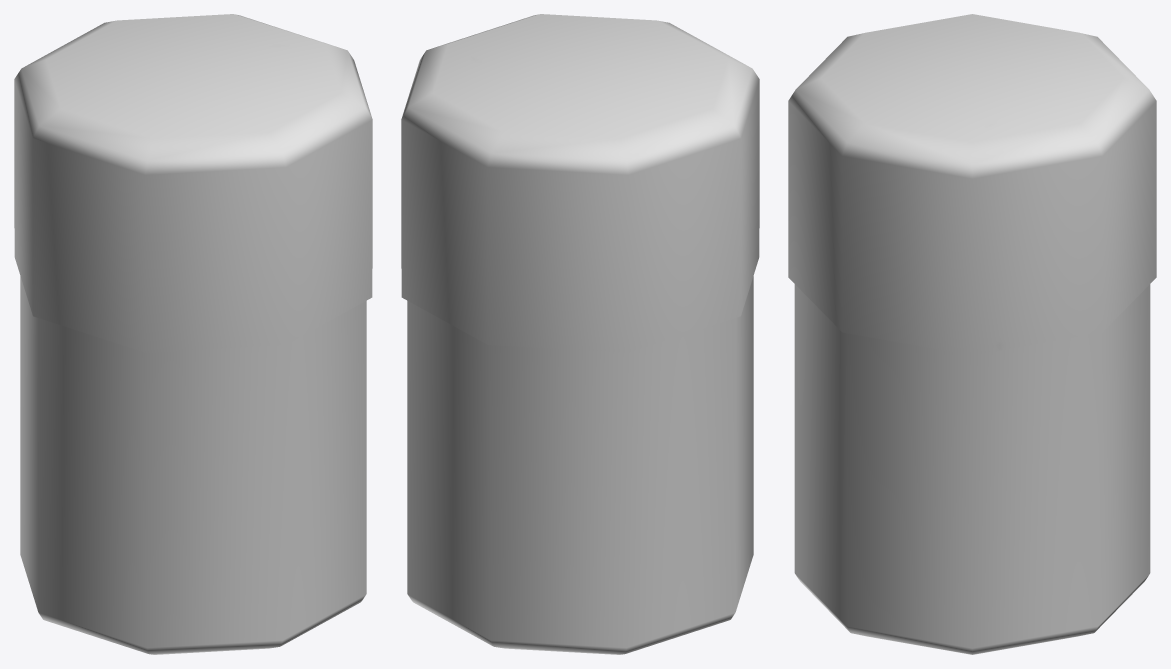
Rendered from shavingCream.fbx.
3 views of the same model, side by side, from view 1: azimuth 30°, elevation 25°; view 2: azimuth 150°, elevation 25°; view 3: azimuth 270°, elevation 25° (orthographic).
Parts seen in each view (by area): view 1: shavingCream; view 2: shavingCream; view 3: shavingCream.
Boxes of the visible parts, x1=… form: shavingCream: x1=14, y1=14, x2=372, y2=654; shavingCream: x1=401, y1=14, x2=759, y2=654; shavingCream: x1=788, y1=14, x2=1156, y2=654.
Size of the model in its own units: 10.6 by 16.33 by 10.6.
